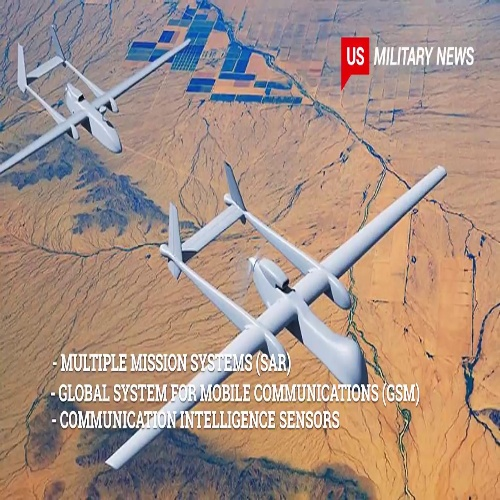uav: (142, 161, 448, 446), (3, 25, 192, 164)
